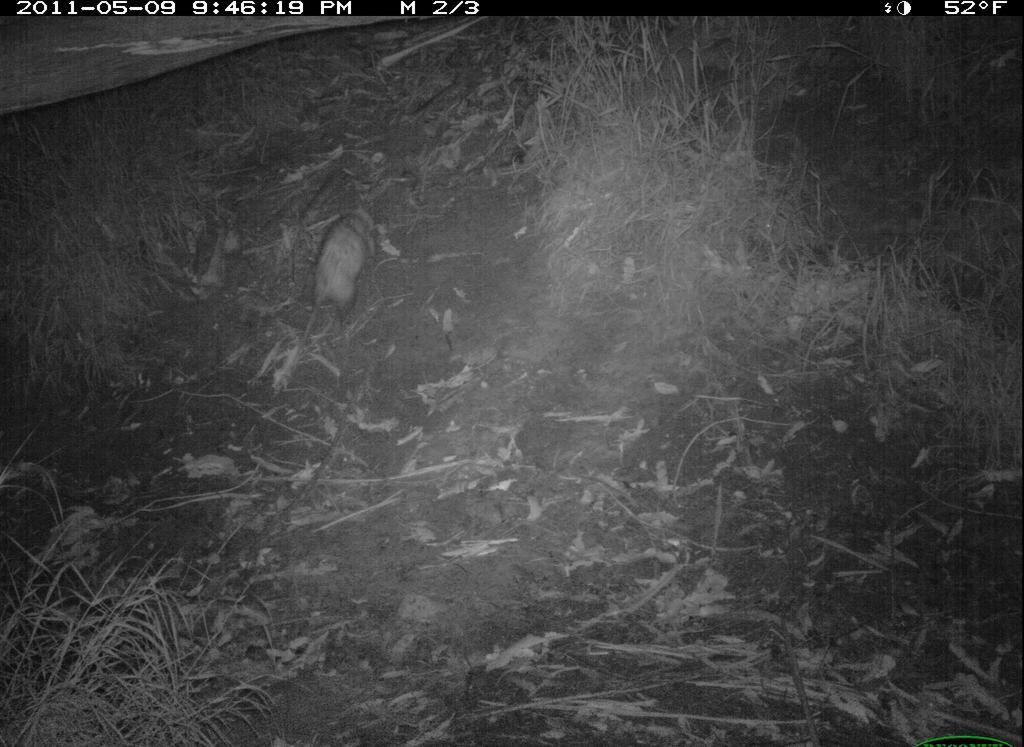opossum: (294, 201, 405, 333)
